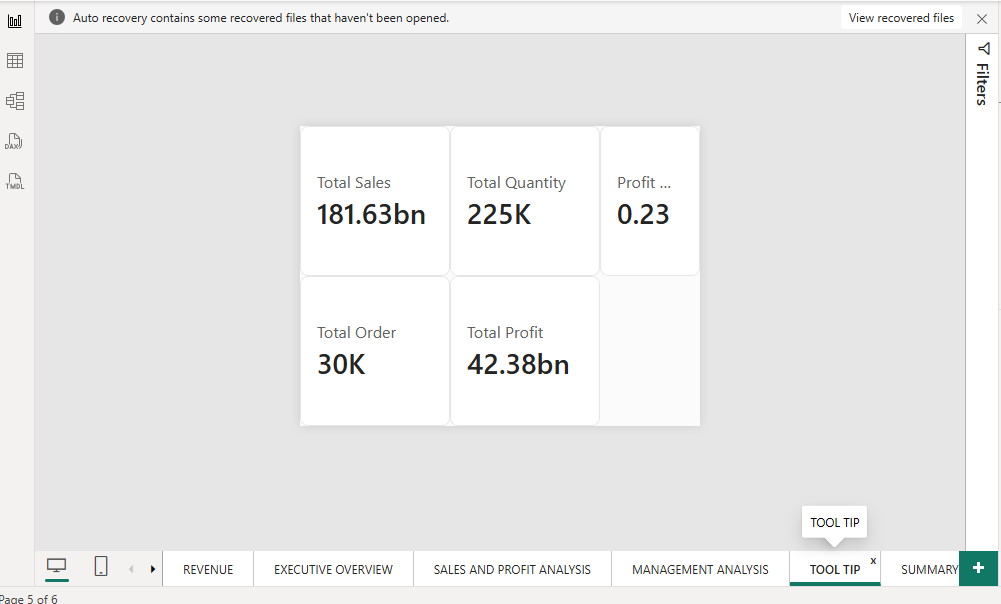

This screenshot's page, from the dashboard's own definition file:
{"tool":"powerbi","page":{"name":"TOOL TIP","canvas":[400,300],"ordinal":4},"visuals":[{"type":"cardVisual","fields":{"Data":["Fact_Sales.Total Sales"]},"box":[0,0,150,150],"z":0},{"type":"cardVisual","fields":{"Data":["Fact_Sales.Total Order"]},"box":[0,150,150,150],"z":1000},{"type":"cardVisual","fields":{"Data":["Fact_Sales.Total Quantity"]},"box":[150,0,150,150],"z":2000},{"type":"cardVisual","fields":{"Data":["Fact_Sales.Total Profit"]},"box":[150,150,150,150],"z":3000},{"type":"cardVisual","fields":{"Data":["Fact_Sales.Profit Margin %"]},"box":[300,0,100,150],"z":4000}]}

Visuals, with their boxes on the page's 400x300 design canvas (x1, y1, x2, y2). These are canvas units, not pixel positions in the 1001x604 screenshot, which may show the page scaled, cropped or inside an application window:
cardVisual - Fact_Sales.Total Sales: crop(0, 0, 150, 150)
cardVisual - Fact_Sales.Total Order: crop(0, 150, 150, 300)
cardVisual - Fact_Sales.Total Quantity: crop(150, 0, 300, 150)
cardVisual - Fact_Sales.Total Profit: crop(150, 150, 300, 300)
cardVisual - Fact_Sales.Profit Margin %: crop(300, 0, 400, 150)
